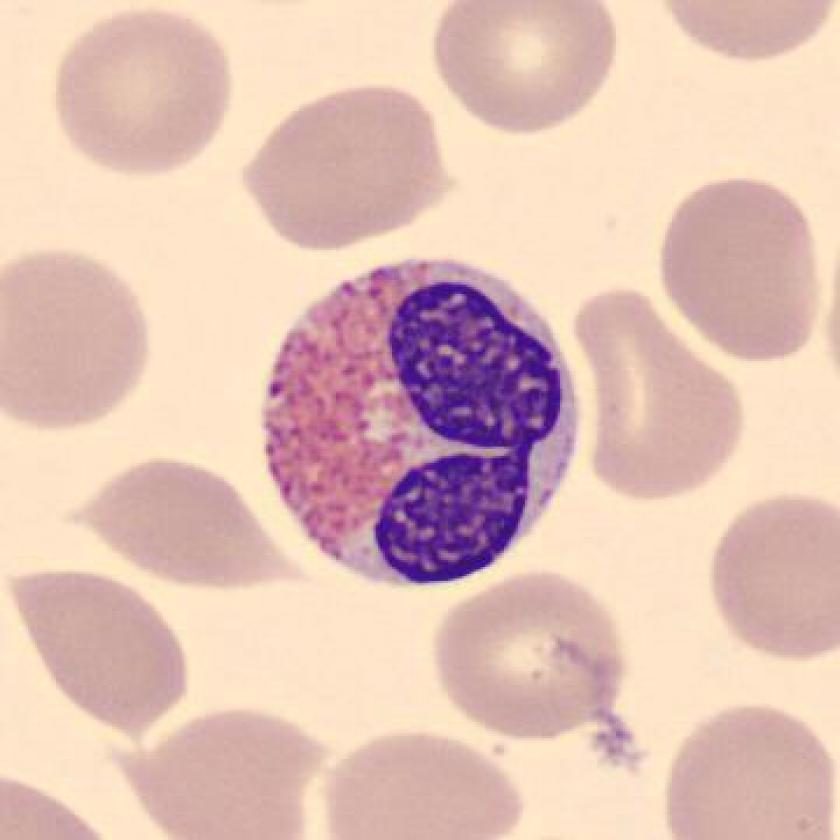eosinophil: (253, 246, 594, 596)
